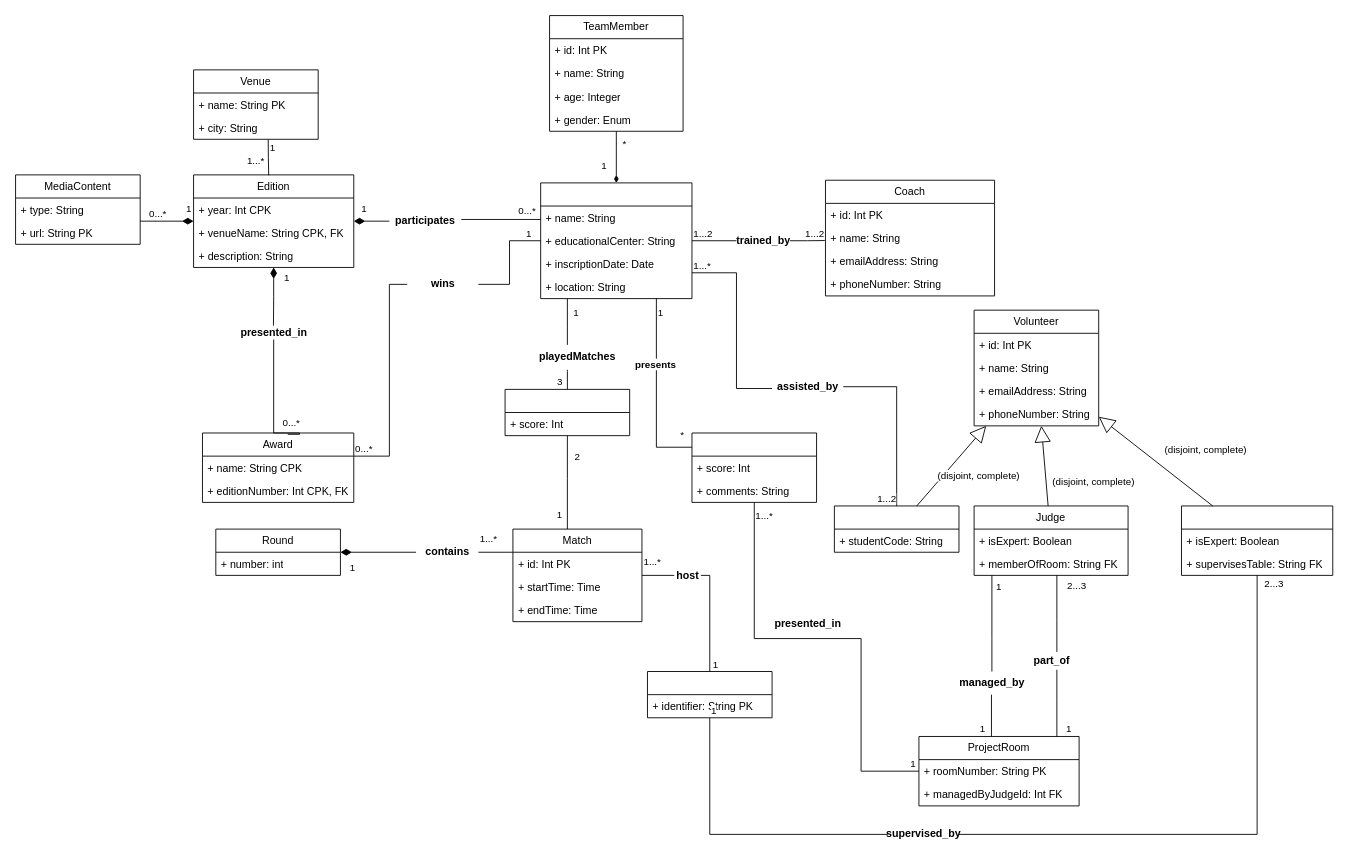
The diagram is 1348 pixels wide and 862 high, and some of its shapes have lost their labels. Here are the shapes that lost their labels. From the top down, the box of each, then its label:
(540, 182, 692, 299): Team
(504, 388, 630, 436): MatchResult
(691, 432, 817, 502): ScientificProject
(833, 505, 959, 552): Floater
(1181, 505, 1333, 575): Referee
(647, 671, 772, 718): CompetitionTable
